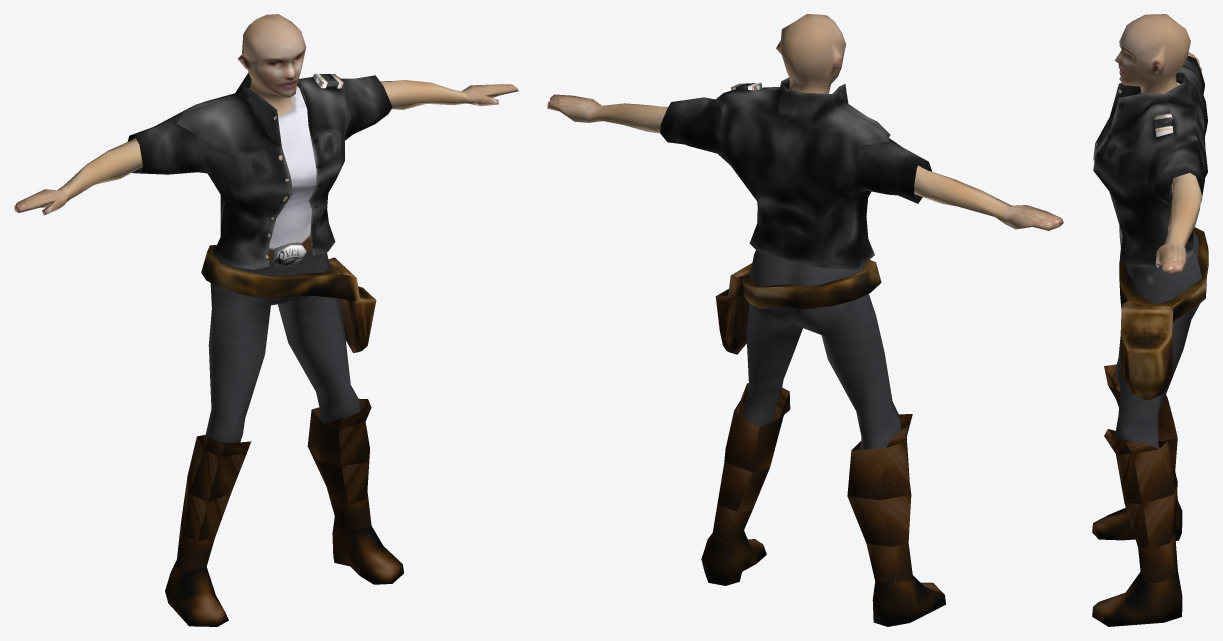
The model's file is female_gunsmith_jacket_etc.obj.
The picture shows the model from 3 angles, left to right: view 1: azimuth 30°, elevation 25°; view 2: azimuth 150°, elevation 25°; view 3: azimuth 270°, elevation 25°; orthographic projection. The views are drawn at different scales.
Visible parts, largest first — view 1: heoutfit3_al, Body_11 - De; view 2: heoutfit3_al, Body_11 - De; view 3: heoutfit3_al, Body_11 - De.
Part boxes in pixels (x1,y1,x2,y2): heoutfit3_al: (128,73,403,626); Body_11 - De: (14,14,518,443); heoutfit3_al: (660,77,945,626); Body_11 - De: (547,14,1063,582); heoutfit3_al: (1092,56,1208,626); Body_11 - De: (1114,14,1205,577).
Bounding box in the file's own units: 8.88 × 9.57 × 1.81.
